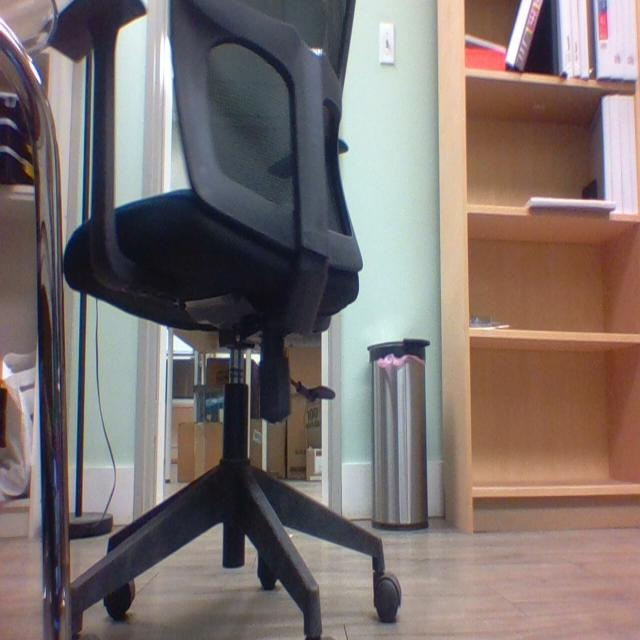black-chair: (44, 0, 404, 639)
